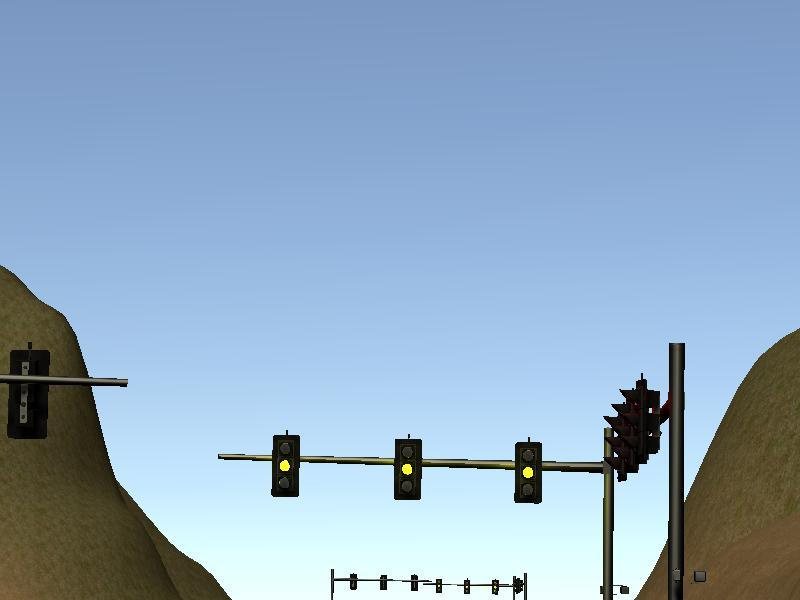Yellow: (271, 435, 300, 495), (514, 441, 542, 503), (393, 437, 420, 500)
